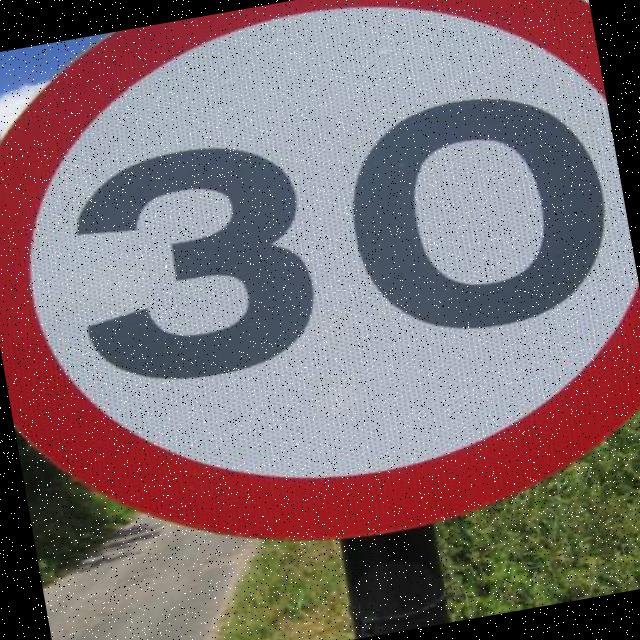speed_limit_30: (0, 0, 640, 597)
